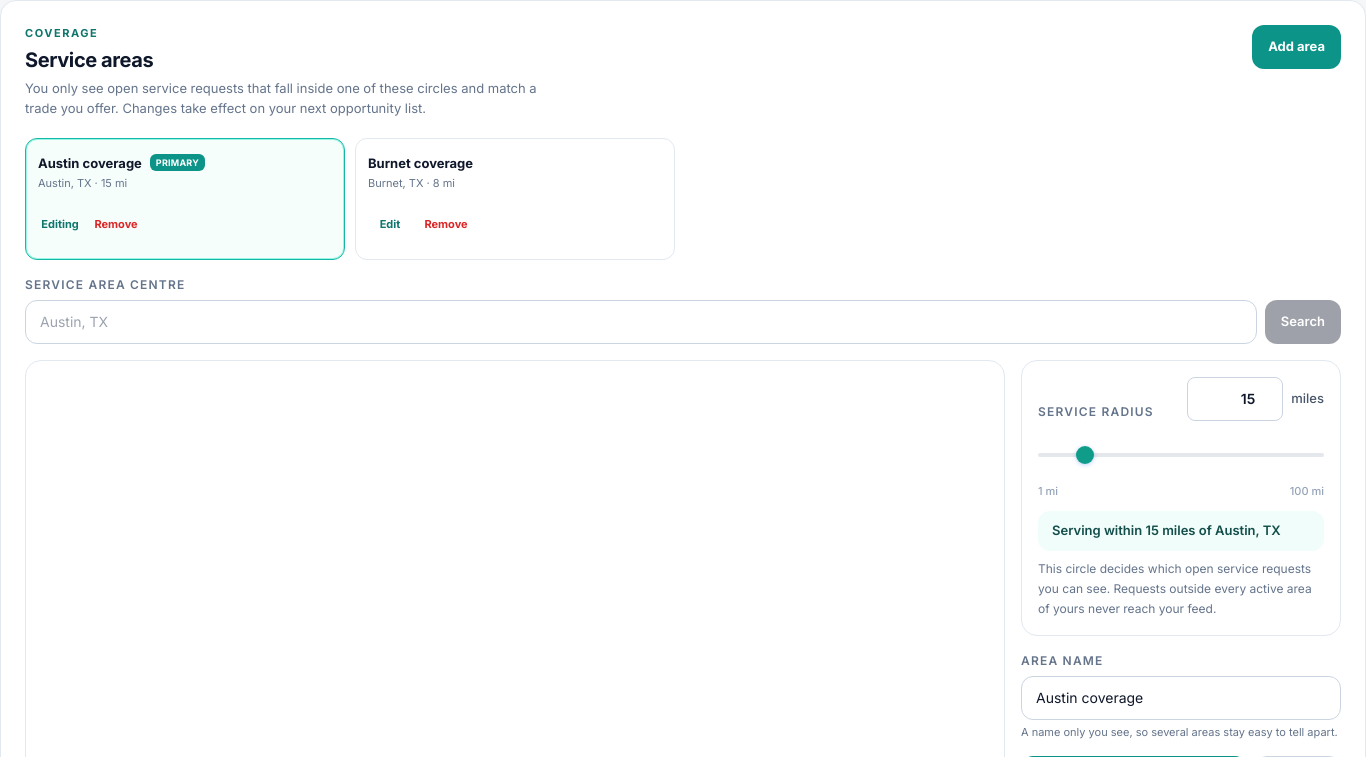
Test case: coverage editor asynchronous draft ownership › does not attach a reverse-lookup address to a different saved area after selection
This screenshot has width=1366, height=757.
Check: the button with aria-label "Edit Austin coverage" is shown, box [38,150,332,194]
Click the button with aria-label "Edit Burnet coverage". click: (421, 162)
box: [368,150,662,194]
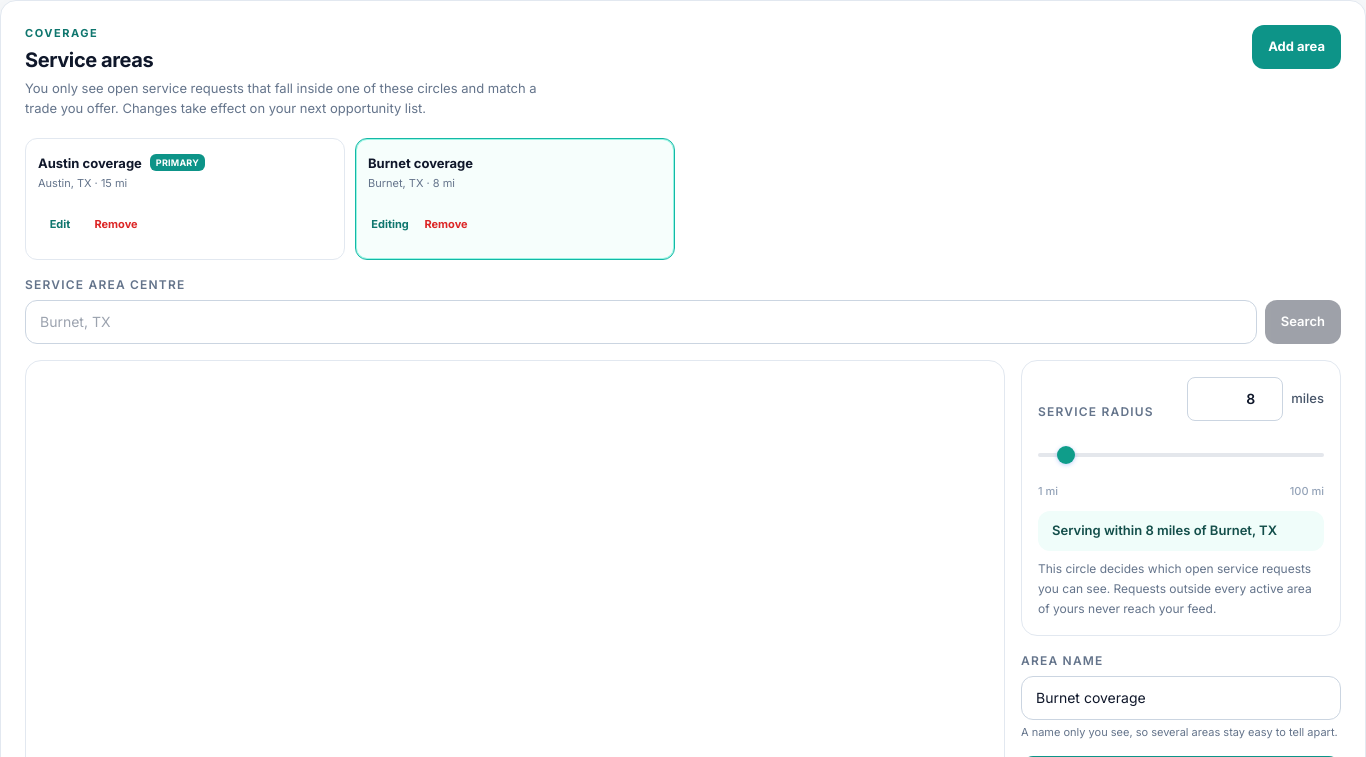
Check: the field labelled "Area name" holds "Burnet coverage", box [1021,676,1341,720]
